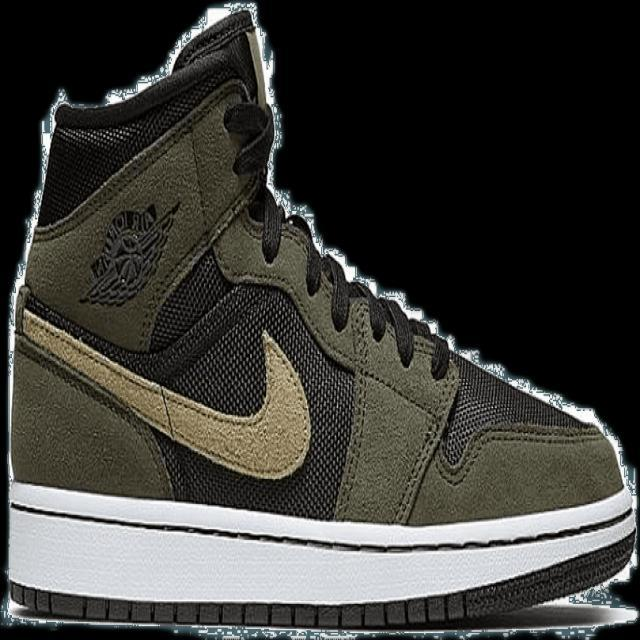J1_InsoleChar: (3, 1, 636, 630)
J1_ShoeLogo: (76, 198, 182, 308)
J1_StitchPattern: (6, 496, 635, 627), (16, 294, 314, 480), (7, 496, 637, 559), (6, 568, 633, 628), (311, 249, 454, 383), (389, 330, 462, 525)
